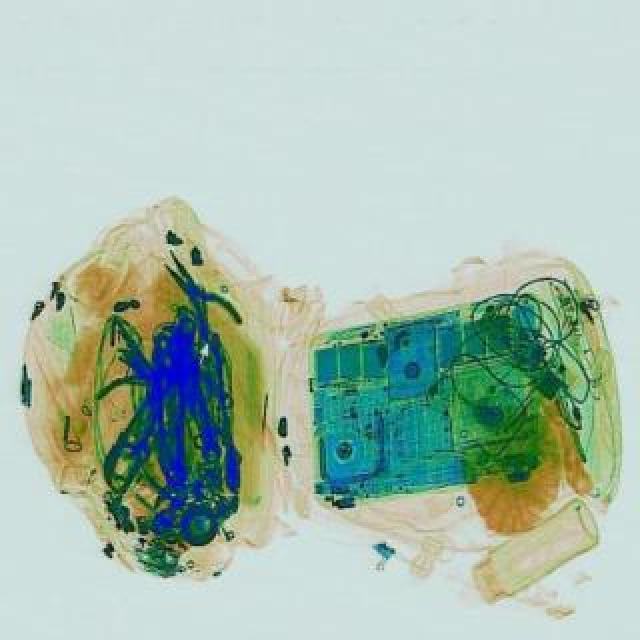wrench: (146, 240, 254, 350)
